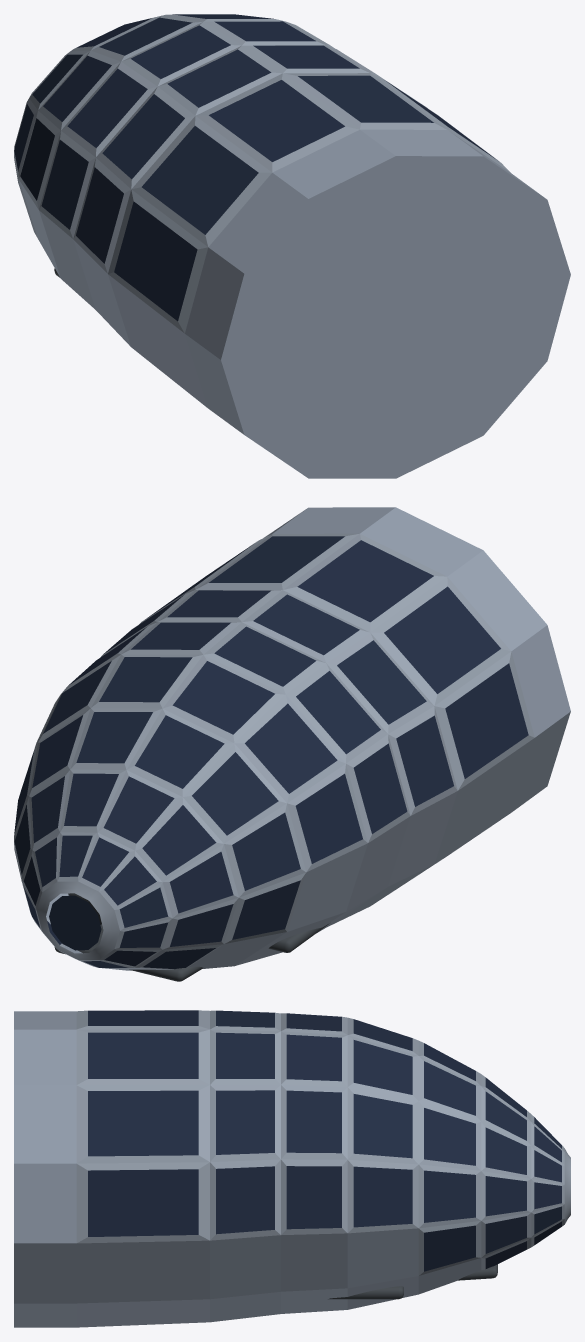
The model's file is cockpit_b29.glb.
The picture shows the model from 3 angles, top to bottom: view 1: azimuth 30°, elevation 25°; view 2: azimuth 150°, elevation 25°; view 3: azimuth 270°, elevation 25°; orthographic projection. The views are drawn at different scales.
Visible parts, largest first — view 1: B29_Rumpf_mit_Nase; view 2: B29_Rumpf_mit_Nase, B29_Rahmendetails, B29_Glasdetails, B29_Innenraum; view 3: B29_Rumpf_mit_Nase, B29_Innenraum, B29_Rahmendetails.
Boxes of the visible parts, <box> form: B29_Rumpf_mit_Nase: <box>14,14,570,478</box>; B29_Rumpf_mit_Nase: <box>14,507,570,970</box>; B29_Rahmendetails: <box>36,881,119,959</box>; B29_Glasdetails: <box>49,895,101,950</box>; B29_Innenraum: <box>54,893,329,981</box>; B29_Rumpf_mit_Nase: <box>14,1010,564,1327</box>; B29_Innenraum: <box>328,1264,497,1299</box>; B29_Rahmendetails: <box>564,1148,570,1224</box>.
Bounding box in the file's own units: 1.68 × 1.48 × 2.67.
